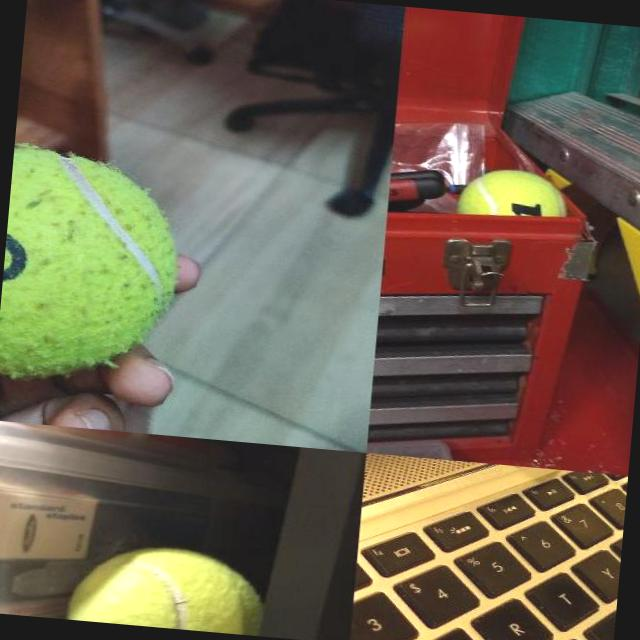Tennis Ball: (0, 142, 187, 393), (64, 538, 260, 634), (456, 165, 570, 214)
